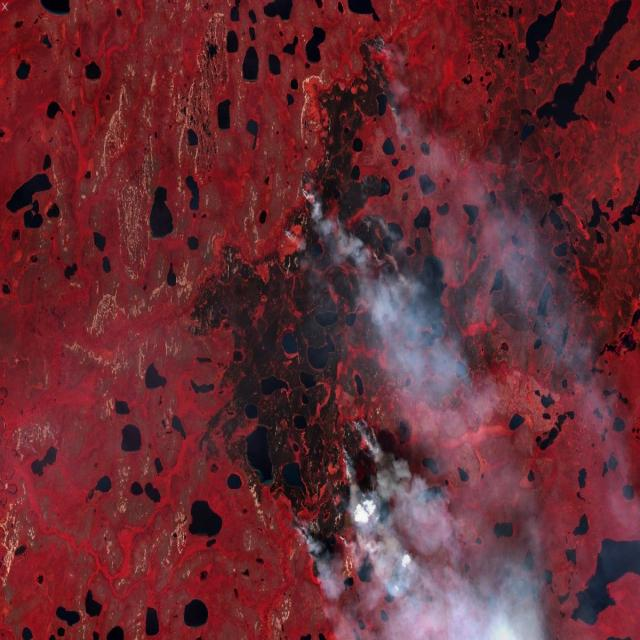fire: (276, 23, 409, 257), (283, 410, 388, 583)
